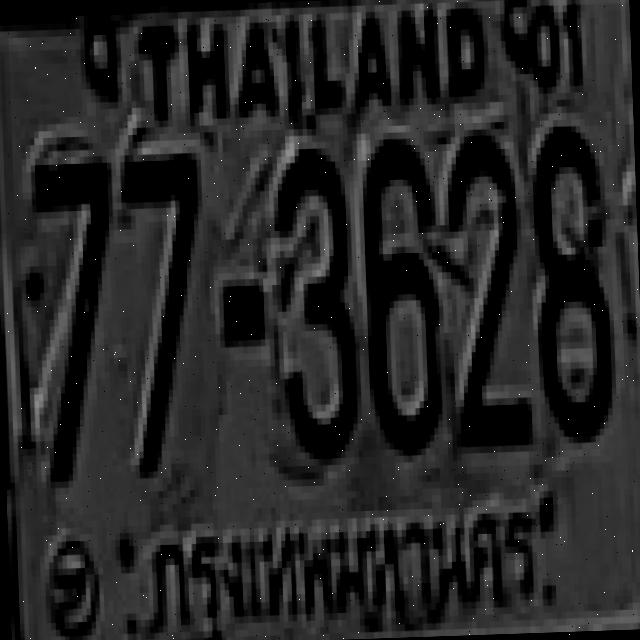2: (441, 131, 528, 436), (444, 142, 526, 446), (442, 128, 522, 413)
3: (270, 140, 356, 460)
6: (358, 130, 441, 450)
7: (30, 156, 117, 474), (120, 149, 206, 468), (30, 152, 114, 377)
8: (526, 119, 612, 438)
Bangkok: (142, 494, 552, 630)
